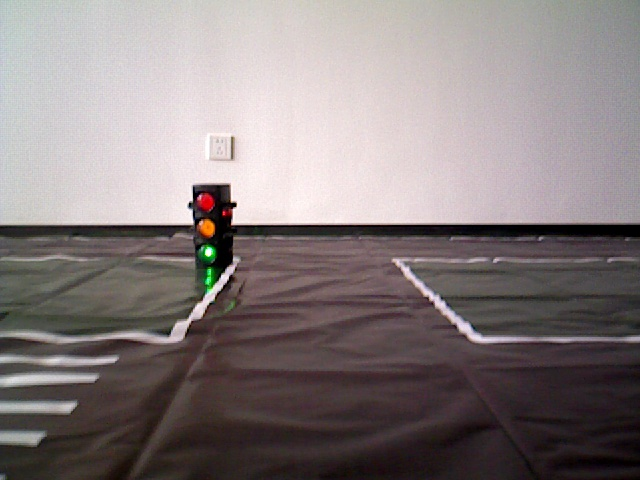green: (192, 188, 231, 261)
